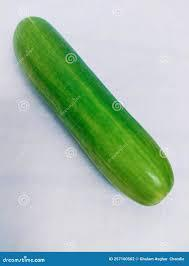non-mango: (12, 15, 174, 206)
